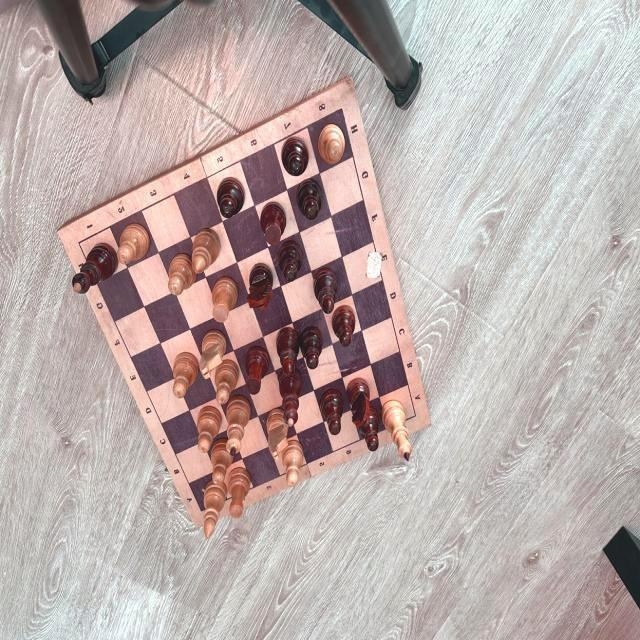chess-table-corners: (337, 101, 347, 115), (412, 411, 419, 421), (76, 239, 82, 248), (198, 508, 204, 515)
